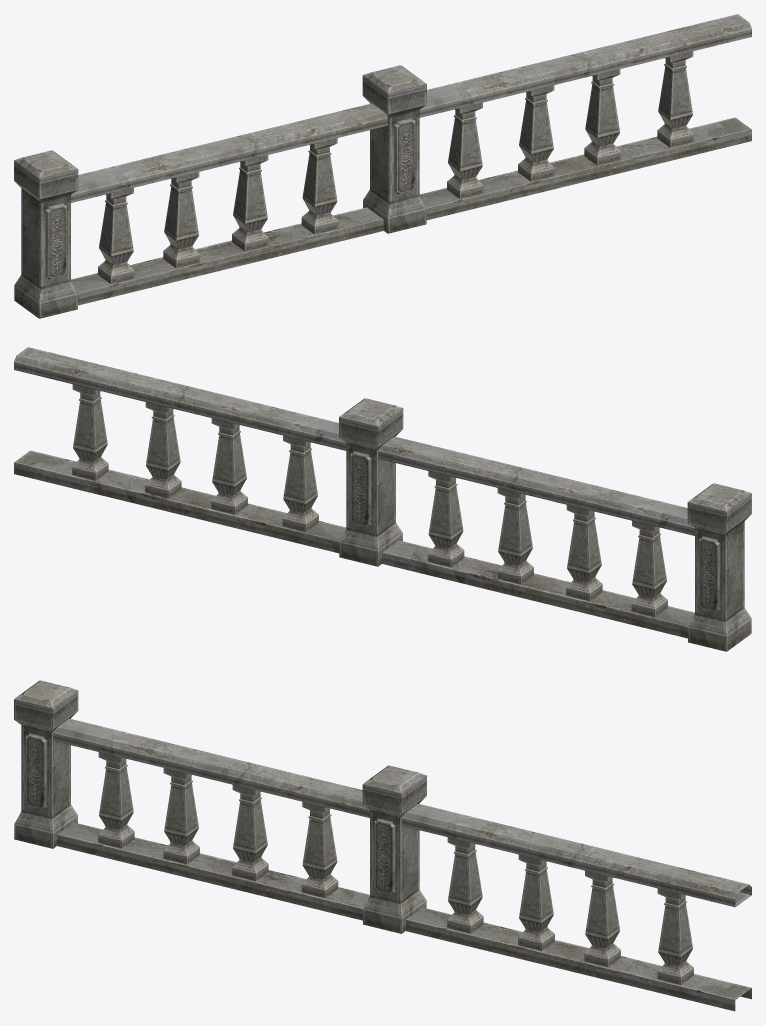
File: bg_lut_lucastle_fence01_sm_lkj.FBX
3 renders of one model, top to bottom at view 1: azimuth 30°, elevation 25°; view 2: azimuth 150°, elevation 25°; view 3: azimuth 330°, elevation 25°, orthographic.
Parts seen in each view (by area): view 1: bg_lut_lucastle_fence01_sm_lkj; view 2: bg_lut_lucastle_fence01_sm_lkj; view 3: bg_lut_lucastle_fence01_sm_lkj.
Boxes of the visible parts, box(x1,y1,x2,y2) form: bg_lut_lucastle_fence01_sm_lkj: box(14, 14, 751, 318); bg_lut_lucastle_fence01_sm_lkj: box(14, 347, 751, 651); bg_lut_lucastle_fence01_sm_lkj: box(14, 680, 751, 1011).
Size of the model in its own units: 527 by 101 by 32.03.
